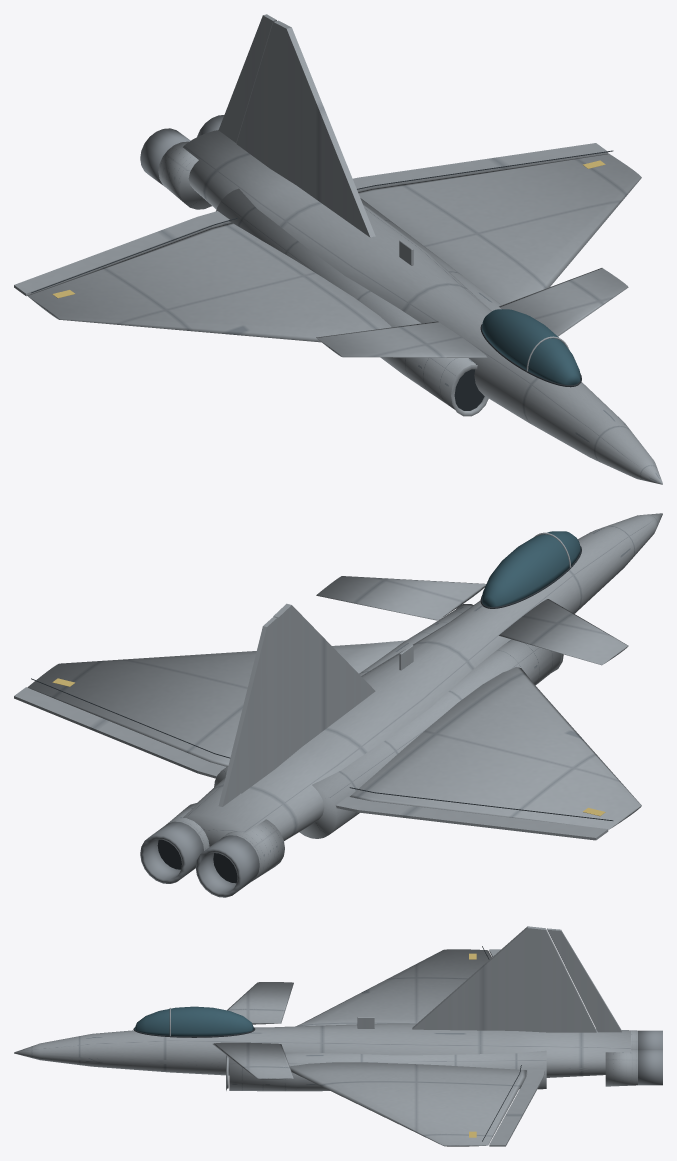
The model's file is rafale-c.glb.
3 views of the same model, one above another, from view 1: azimuth 30°, elevation 25°; view 2: azimuth 150°, elevation 25°; view 3: azimuth 270°, elevation 25° (orthographic). The views are drawn at different scales.
Parts seen in each view (by area): view 1: airframe_static, canopy, canard_L, canard_R, elevon_L, elevon_R, rudder_1; view 2: airframe_static, canopy, canard_R, canard_L, elevon_L, elevon_R, rudder_1; view 3: airframe_static, canopy, rudder_1, canard_R, canard_L, elevon_R.
Boxes of the visible parts, x1,y1,x2,y2 form: airframe_static: (27,20,662,484); canopy: (480,309,581,387); canard_L: (316,321,487,357); canard_R: (499,268,628,336); elevon_L: (14,211,229,296); elevon_R: (353,143,608,190); rudder_1: (218,14,276,142); airframe_static: (27,513,662,897); canopy: (480,531,581,608); canard_R: (316,576,486,620); canard_L: (499,599,628,665); elevon_L: (336,796,608,840); elevon_R: (14,687,225,778); rudder_1: (218,617,276,806); airframe_static: (14,926,662,1146); canopy: (133,1006,255,1037); rudder_1: (547,928,622,1032); canard_R: (212,1042,293,1079); canard_L: (227,982,293,1024); elevon_R: (489,1069,544,1146).
Size of the model in its own units: 10.9 by 3.93 by 15.29.
5 materials, 1 textured.
